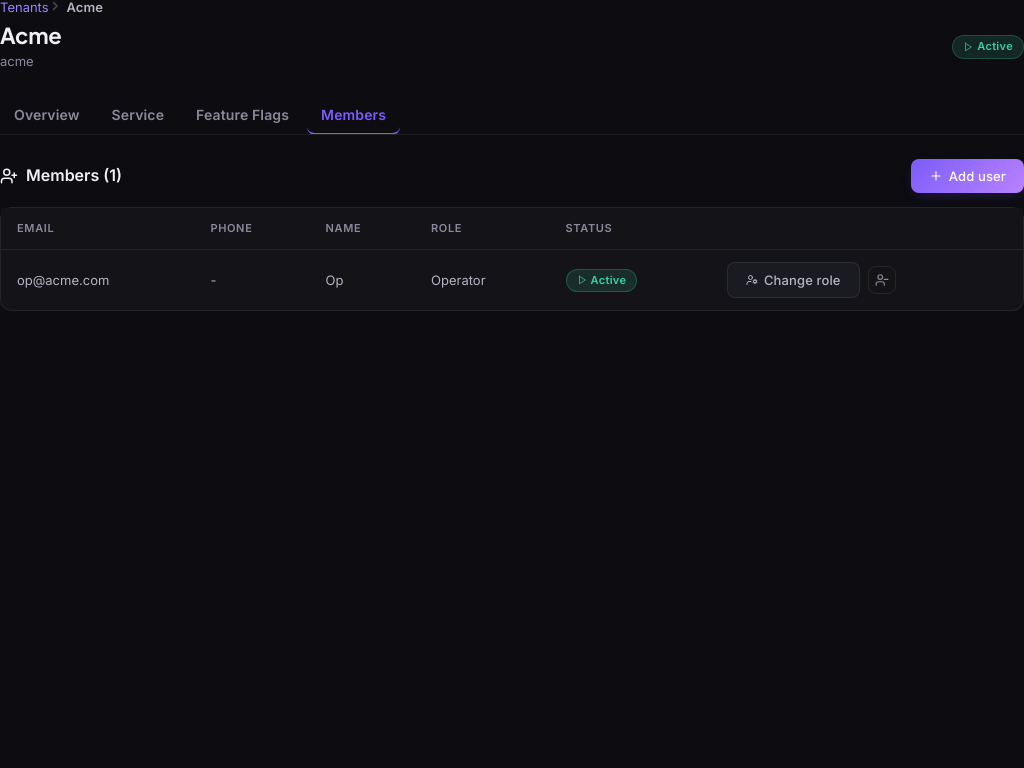
Test: SATenantDetailPage — members › shows a role-change refusal in the dialog and does not claim success
Click the button with aria-label "Change role for op@acme.com" at x=793, y=280, box [727,262,860,298]
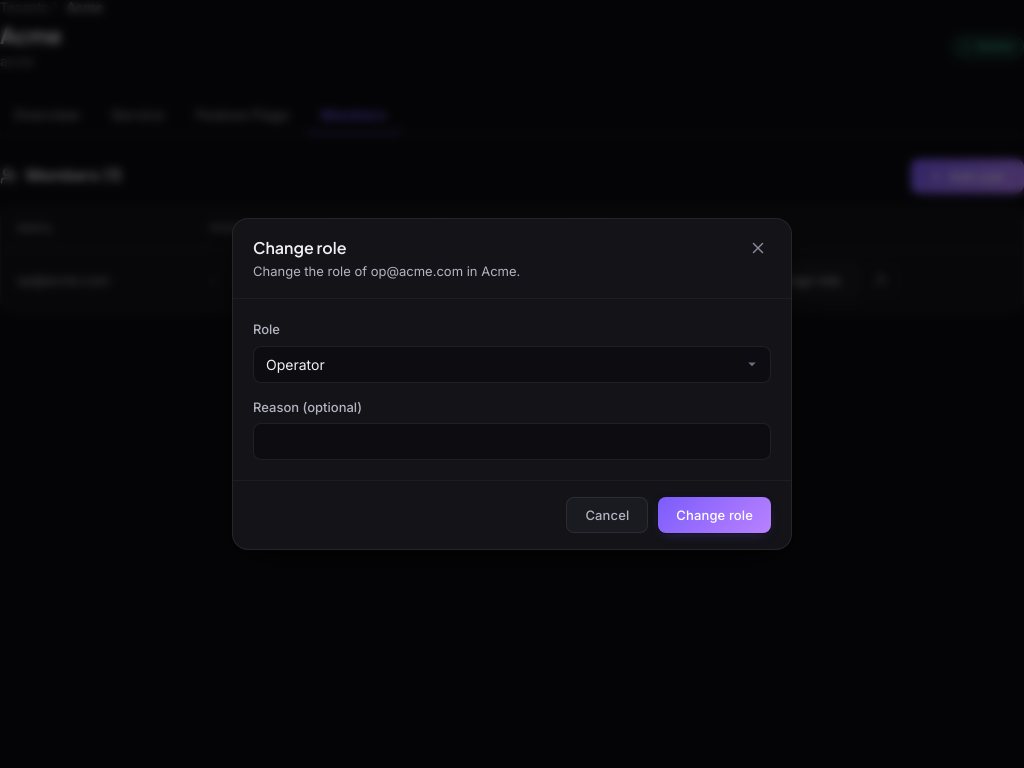
Click the button "Change role" at x=715, y=515, box [658,497,771,533]
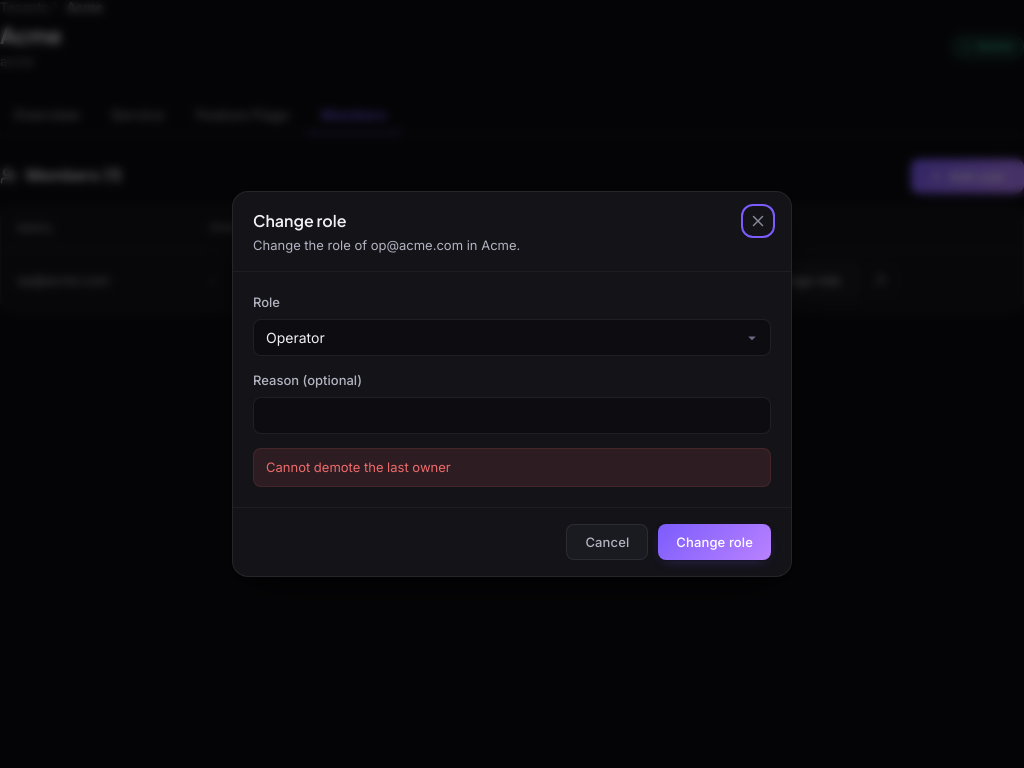
Result: the text "Cannot demote the last owner" is shown at [253,448,771,487]
